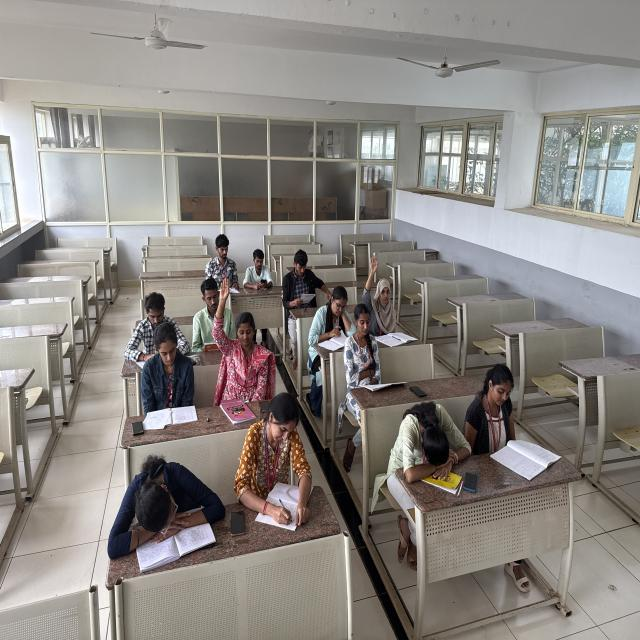Hand Rising: (212, 272, 272, 426), (357, 232, 417, 348)
Reading: (460, 361, 559, 472), (138, 320, 202, 432), (275, 235, 332, 322)
Sleeping: (106, 441, 232, 574), (384, 390, 480, 526)
Using Phone: (240, 233, 275, 309)
Writing: (235, 391, 330, 547)
